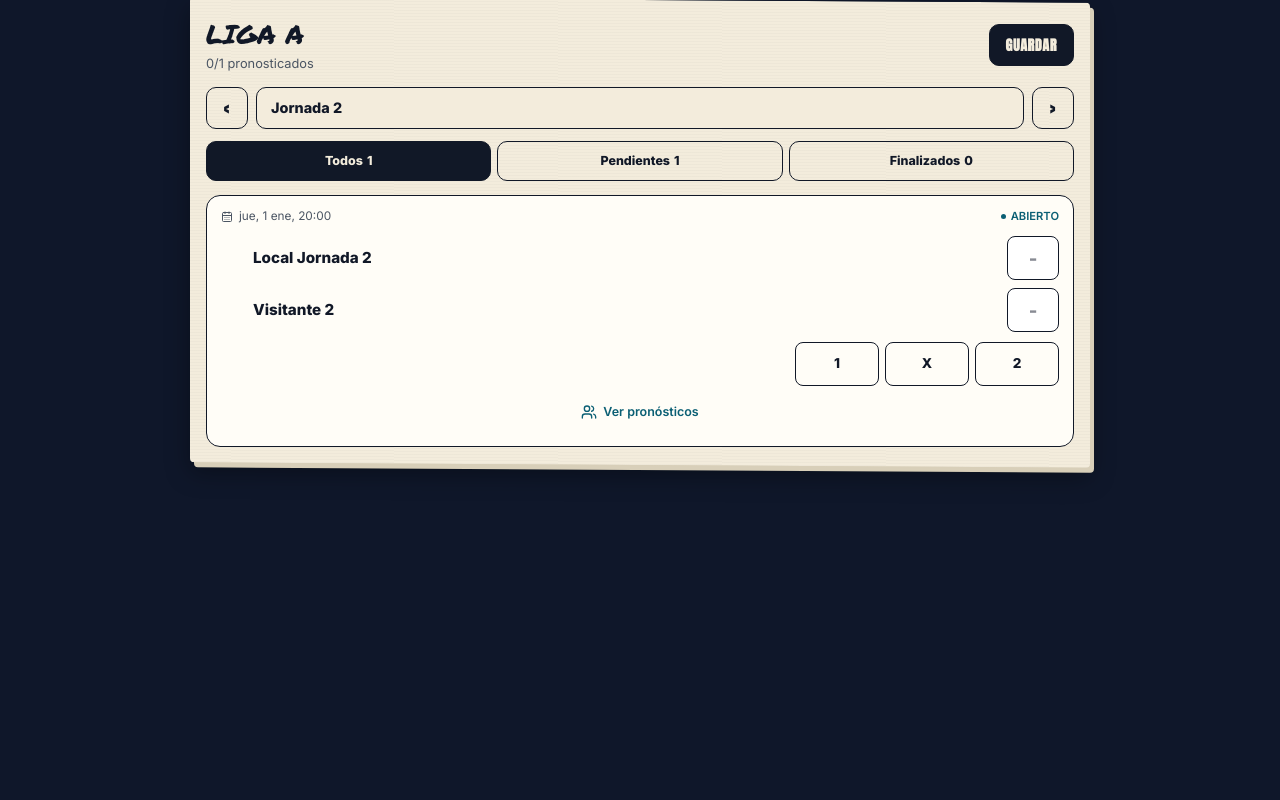
Test: matchday screen with the league round summary › keeps the draft of another round while browsing rounds
Type "2" into the number field named "Goles de Local Jornada 2". click: (1033, 258)
box: [1007,236,1059,280]
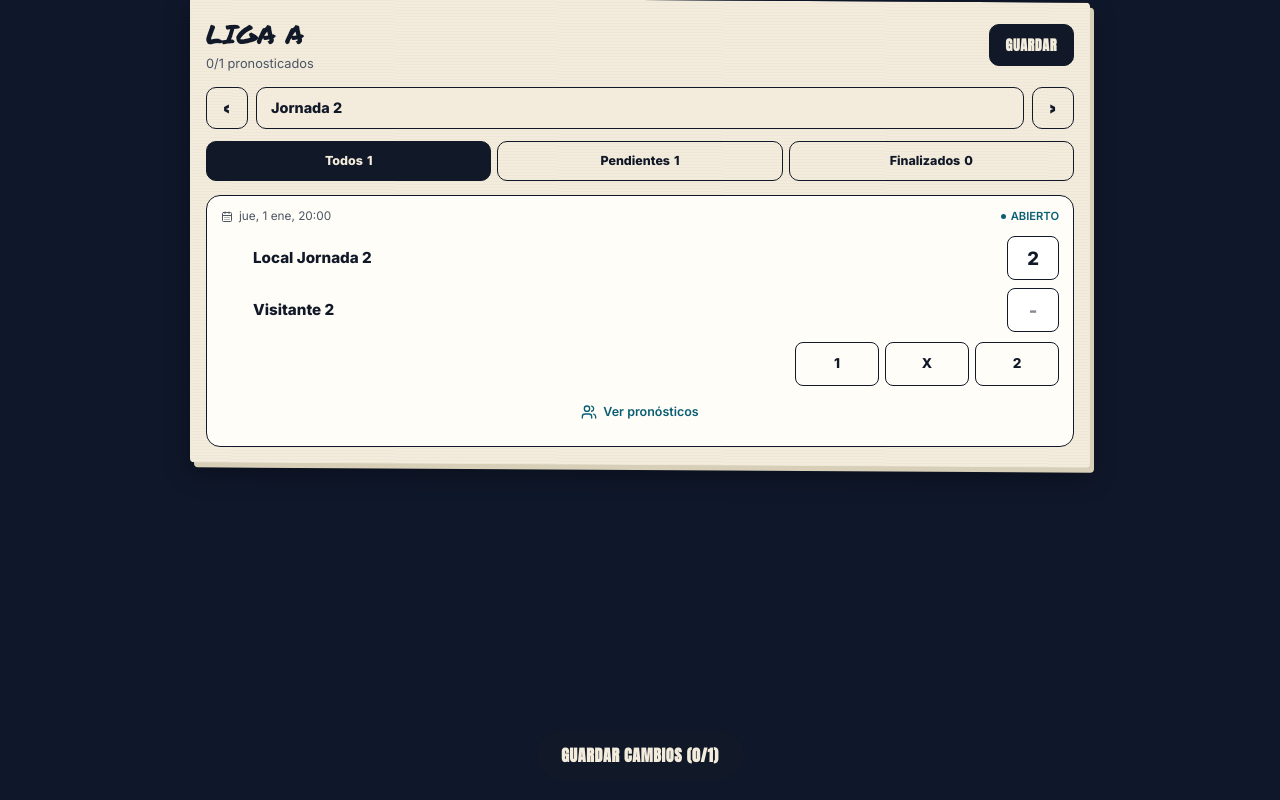
Click the button named "Jornada siguiente". click: (1053, 108)
box: [1032,87,1074,129]
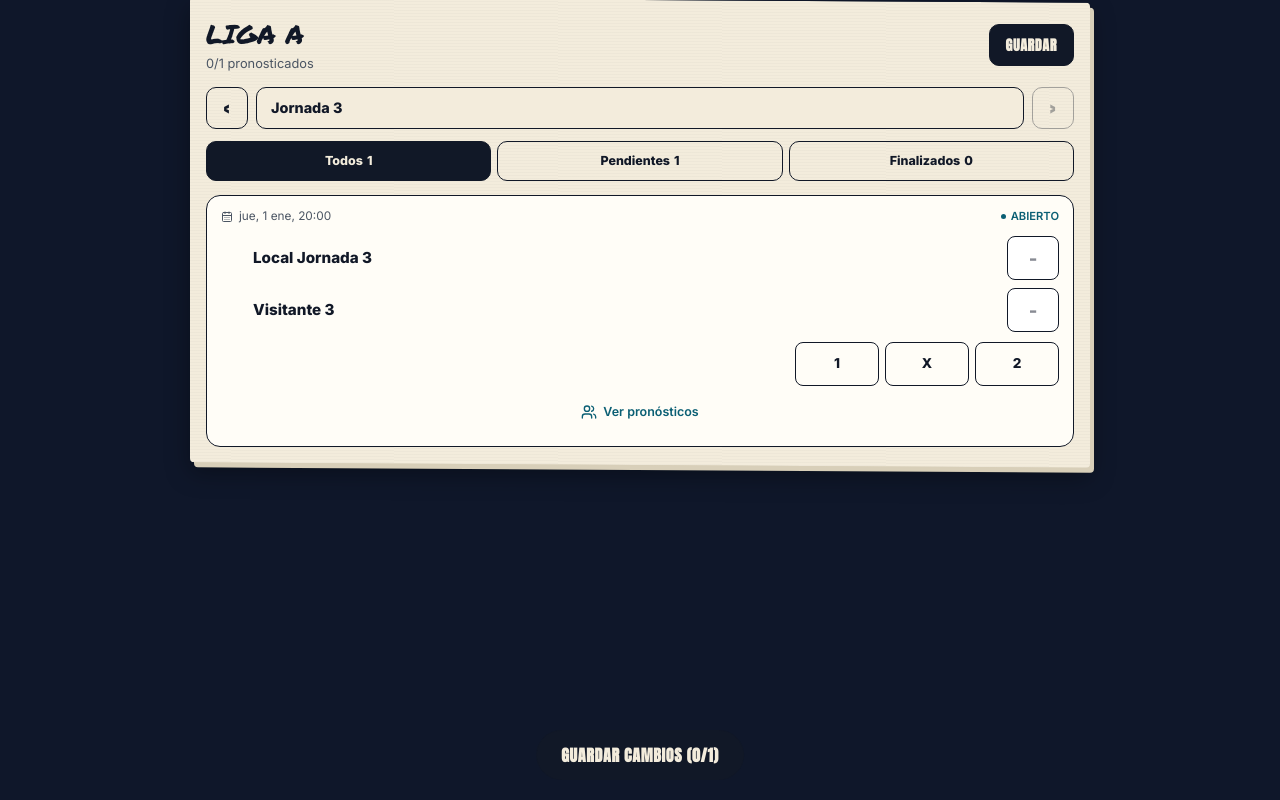
Result: the number field named "Goles de Local Jornada 3" is shown at [1007,236,1059,280]
Click the button named "Jornada anterior". click: (227, 108)
box: [206,87,248,129]
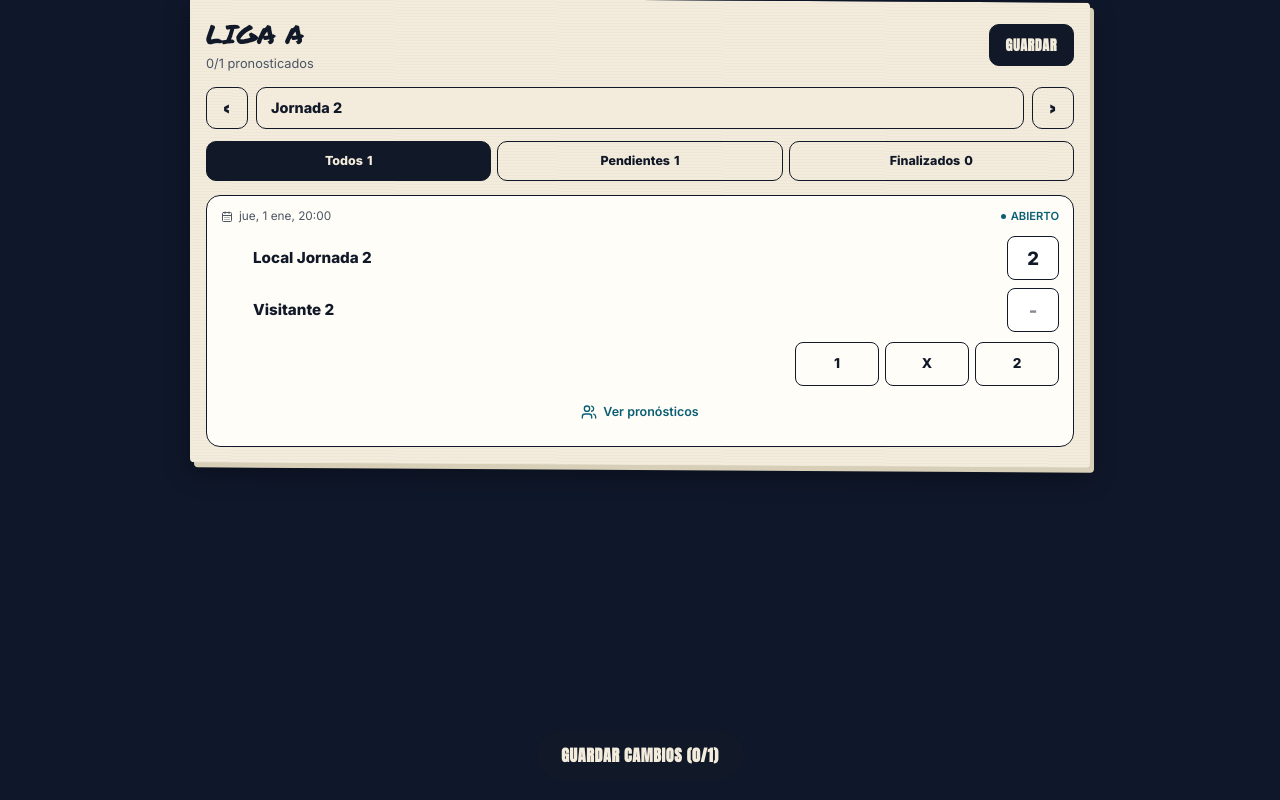
Result: the number field named "Goles de Local Jornada 2" holds "2" at [1007,236,1059,280]
